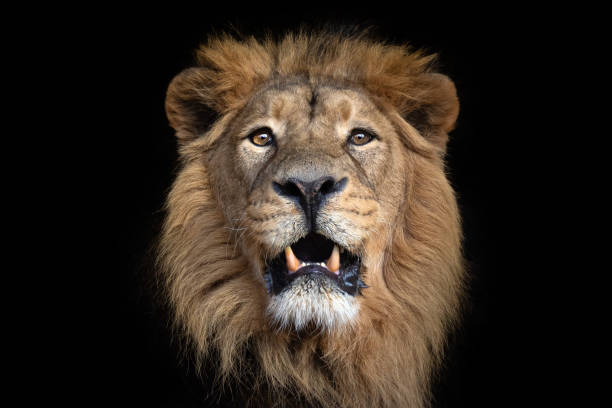lion: (121, 14, 504, 408)
